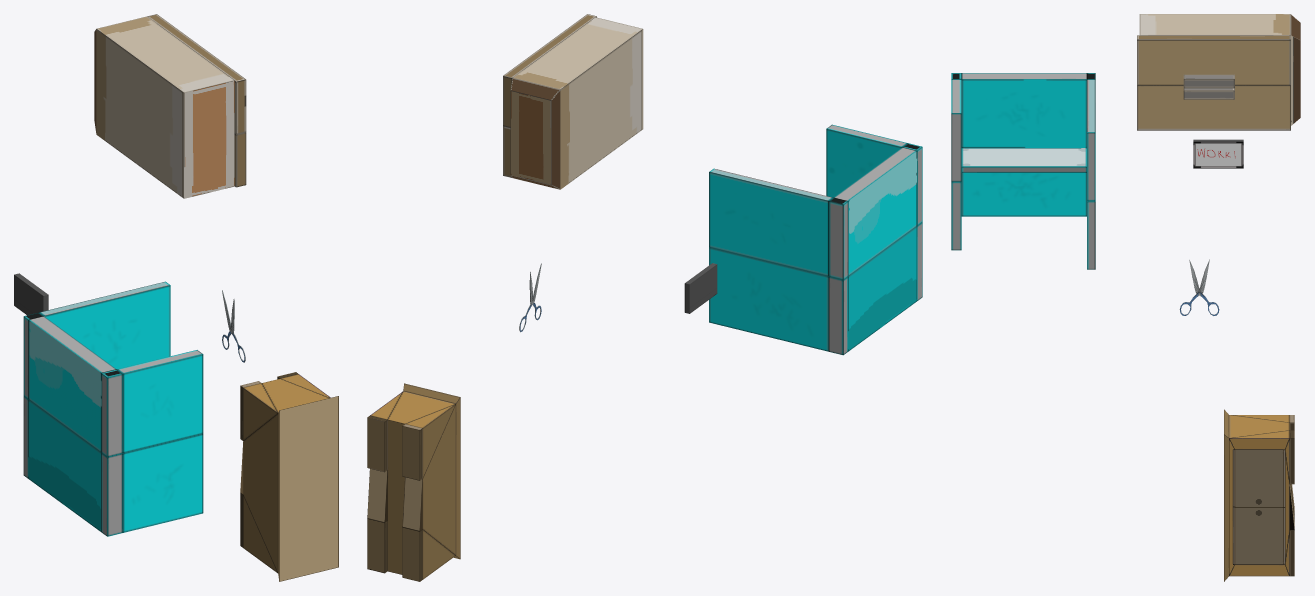
File: ModelosCenarioEObstaculos.fbx
3 views of the same model, side by side, from view 1: azimuth 30°, elevation 25°; view 2: azimuth 150°, elevation 25°; view 3: azimuth 270°, elevation 25° (orthographic). The views are drawn at different scales.
Parts seen in each view (by area): view 1: Cubicle, CabinetBig, CabinetSmall, WhiteboradSmall; view 2: Cubicle, CabinetBig, CabinetSmall, WhiteboradSmall; view 3: Cubicle, CabinetBig, CabinetSmall, WhiteboradSmall, Scissor.
Boxes of the visible parts, bbox=[...] form: Cubicle: bbox=[23, 281, 203, 536]; CabinetBig: bbox=[94, 14, 246, 198]; CabinetSmall: bbox=[240, 372, 338, 581]; WhiteboradSmall: bbox=[14, 273, 48, 315]; Cubicle: bbox=[709, 124, 922, 355]; CabinetBig: bbox=[503, 14, 643, 189]; CabinetSmall: bbox=[367, 383, 460, 581]; WhiteboradSmall: bbox=[684, 263, 717, 313]; Cubicle: bbox=[951, 73, 1095, 269]; CabinetBig: bbox=[1137, 14, 1300, 130]; CabinetSmall: bbox=[1224, 409, 1294, 581]; WhiteboradSmall: bbox=[1193, 139, 1243, 168]; Scissor: bbox=[1179, 259, 1219, 315].
Bounding box in the file's own units: 1540 × 2114 × 1388.
